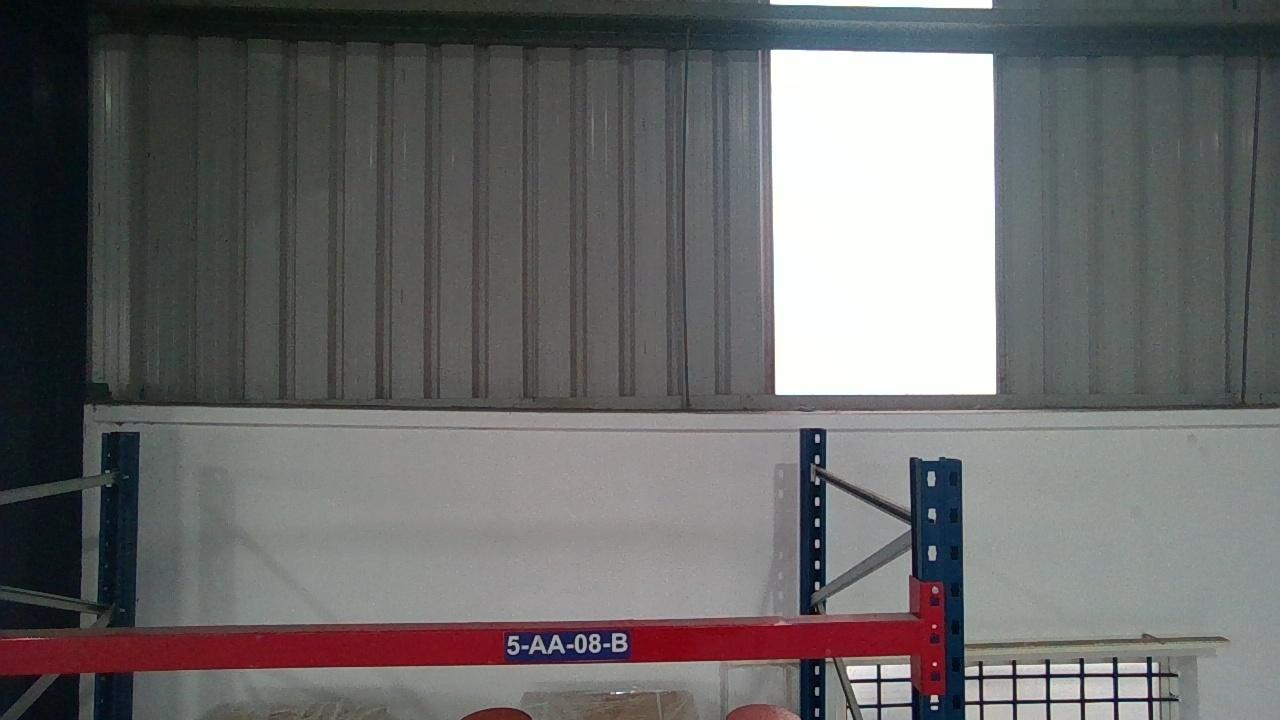h_rack: (0, 624, 924, 671)
